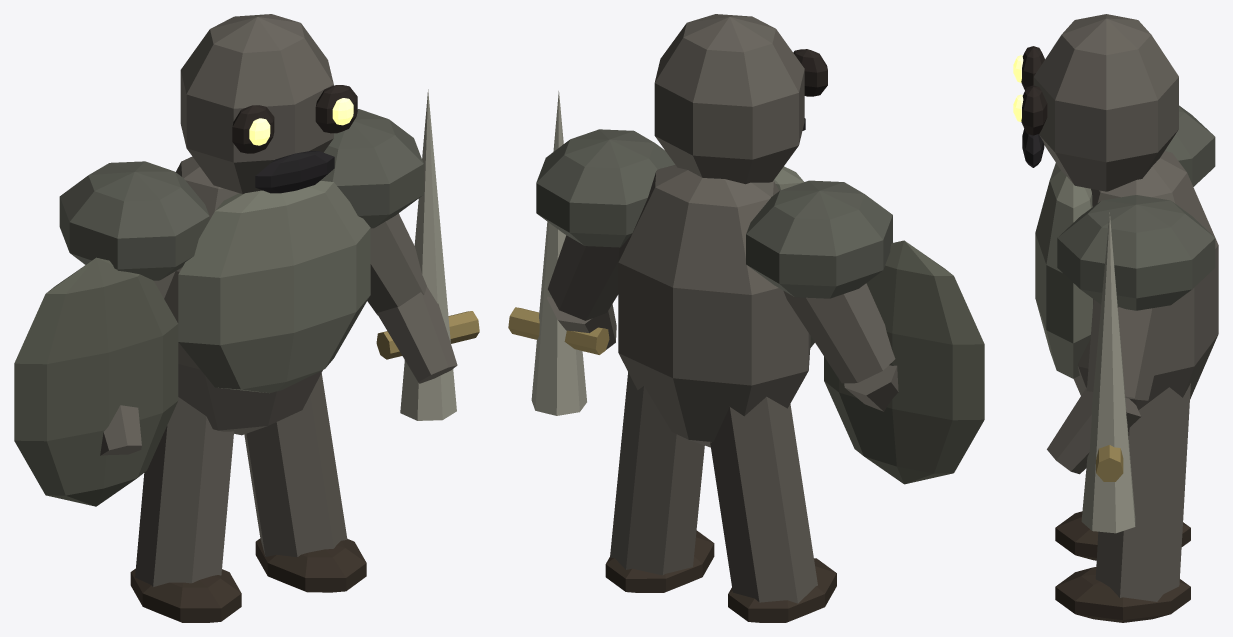
Rendered from fauna-tomb_sentinel.glb.
3 renders of one model, left to right at view 1: azimuth 30°, elevation 25°; view 2: azimuth 150°, elevation 25°; view 3: azimuth 270°, elevation 25°, orthographic. The views are drawn at different scales.
Visible parts, largest first — view 1: Fauna_tomb_sentinel; view 2: Fauna_tomb_sentinel; view 3: Fauna_tomb_sentinel.
Boxes of the visible parts, x1=… form: Fauna_tomb_sentinel: x1=14, y1=14, x2=479, y2=622; Fauna_tomb_sentinel: x1=508, y1=14, x2=984, y2=622; Fauna_tomb_sentinel: x1=1013, y1=14, x2=1218, y2=622.
Bounding box in the file's own units: 1.58 × 1.88 × 0.6171.
